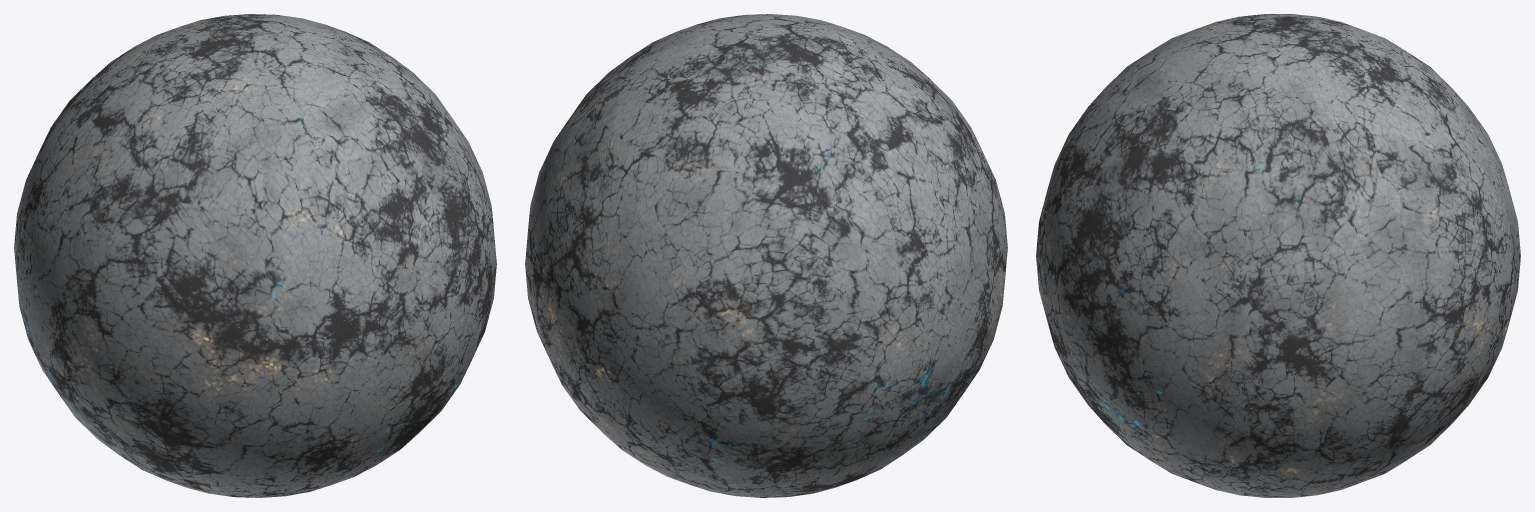
File: SadALONE.glb
3 renders of one model, left to right at view 1: azimuth 30°, elevation 25°; view 2: azimuth 150°, elevation 25°; view 3: azimuth 270°, elevation 25°, orthographic.
Visible parts, largest first — view 1: Cracks (SAD); view 2: Cracks (SAD); view 3: Cracks (SAD).
Part boxes in pixels (x1,y1,x2,y2): Cracks (SAD): [14, 14, 496, 497]; Cracks (SAD): [525, 14, 1007, 497]; Cracks (SAD): [1036, 14, 1520, 497].
Bounding box in the file's own units: 1.99 × 2 × 2.
Materials: 1 (1 with a texture image).
